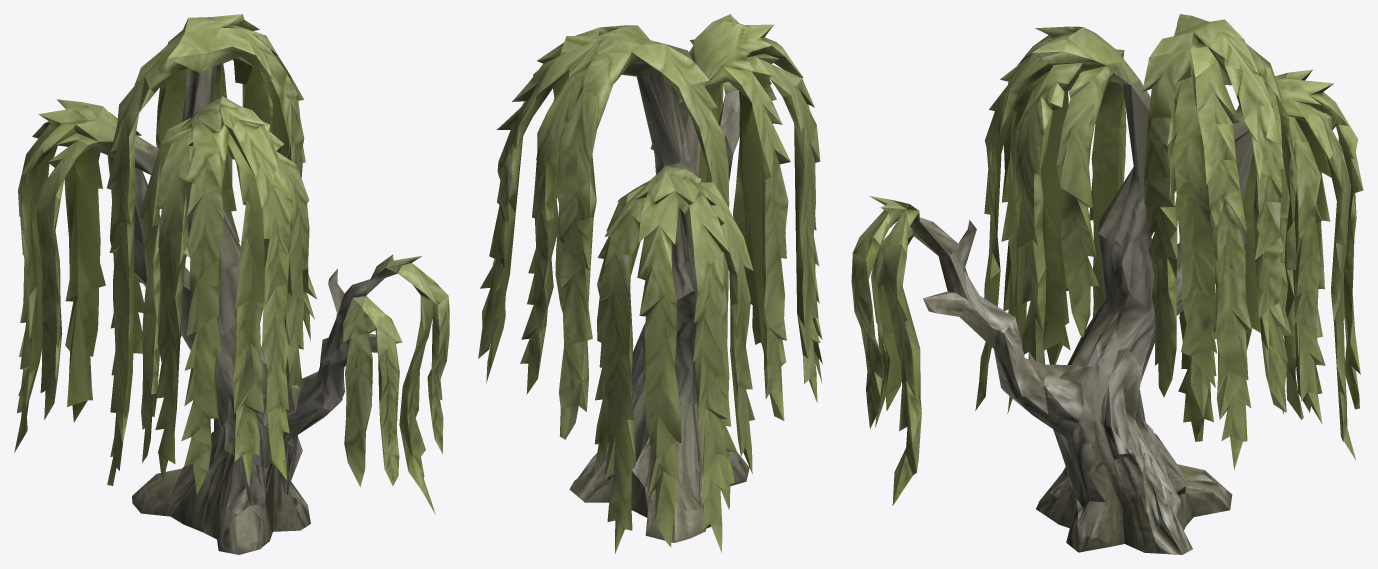
The picture shows the model from 3 angles, left to right: view 1: azimuth 30°, elevation 25°; view 2: azimuth 150°, elevation 25°; view 3: azimuth 270°, elevation 25°; orthographic projection. The views are drawn at different scales.
Parts seen in each view (by area): view 1: willow; view 2: willow; view 3: willow.
Part boxes in pixels (x1,y1,x2,y2): willow: (14, 14, 449, 554); willow: (478, 14, 822, 553); willow: (851, 14, 1363, 554).
Bounding box in the file's own units: 0.5724 × 0.9816 × 0.9028.
1 material, 1 textured.
